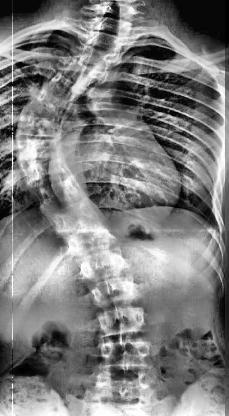Vertebrae: (36, 194, 104, 232), (88, 372, 158, 404), (58, 220, 121, 254), (24, 168, 82, 204), (83, 275, 145, 308), (74, 252, 136, 284), (95, 338, 155, 370), (94, 306, 148, 338), (14, 151, 70, 179), (23, 87, 72, 117), (14, 111, 66, 139), (11, 136, 68, 160), (42, 73, 90, 101), (58, 57, 108, 83), (71, 42, 117, 68), (80, 30, 126, 52), (87, 4, 136, 22), (85, 16, 129, 36)
